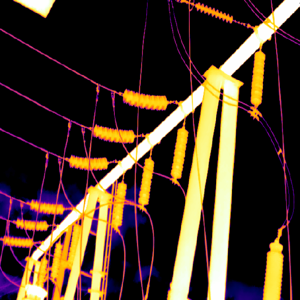insulator: (121, 87, 168, 110), (170, 126, 188, 176), (249, 50, 265, 104), (110, 180, 127, 228), (93, 123, 135, 142), (137, 156, 153, 205), (67, 153, 109, 170), (66, 223, 82, 265), (50, 241, 62, 281), (29, 201, 65, 213), (14, 218, 49, 230), (2, 235, 31, 246), (37, 256, 46, 286)
